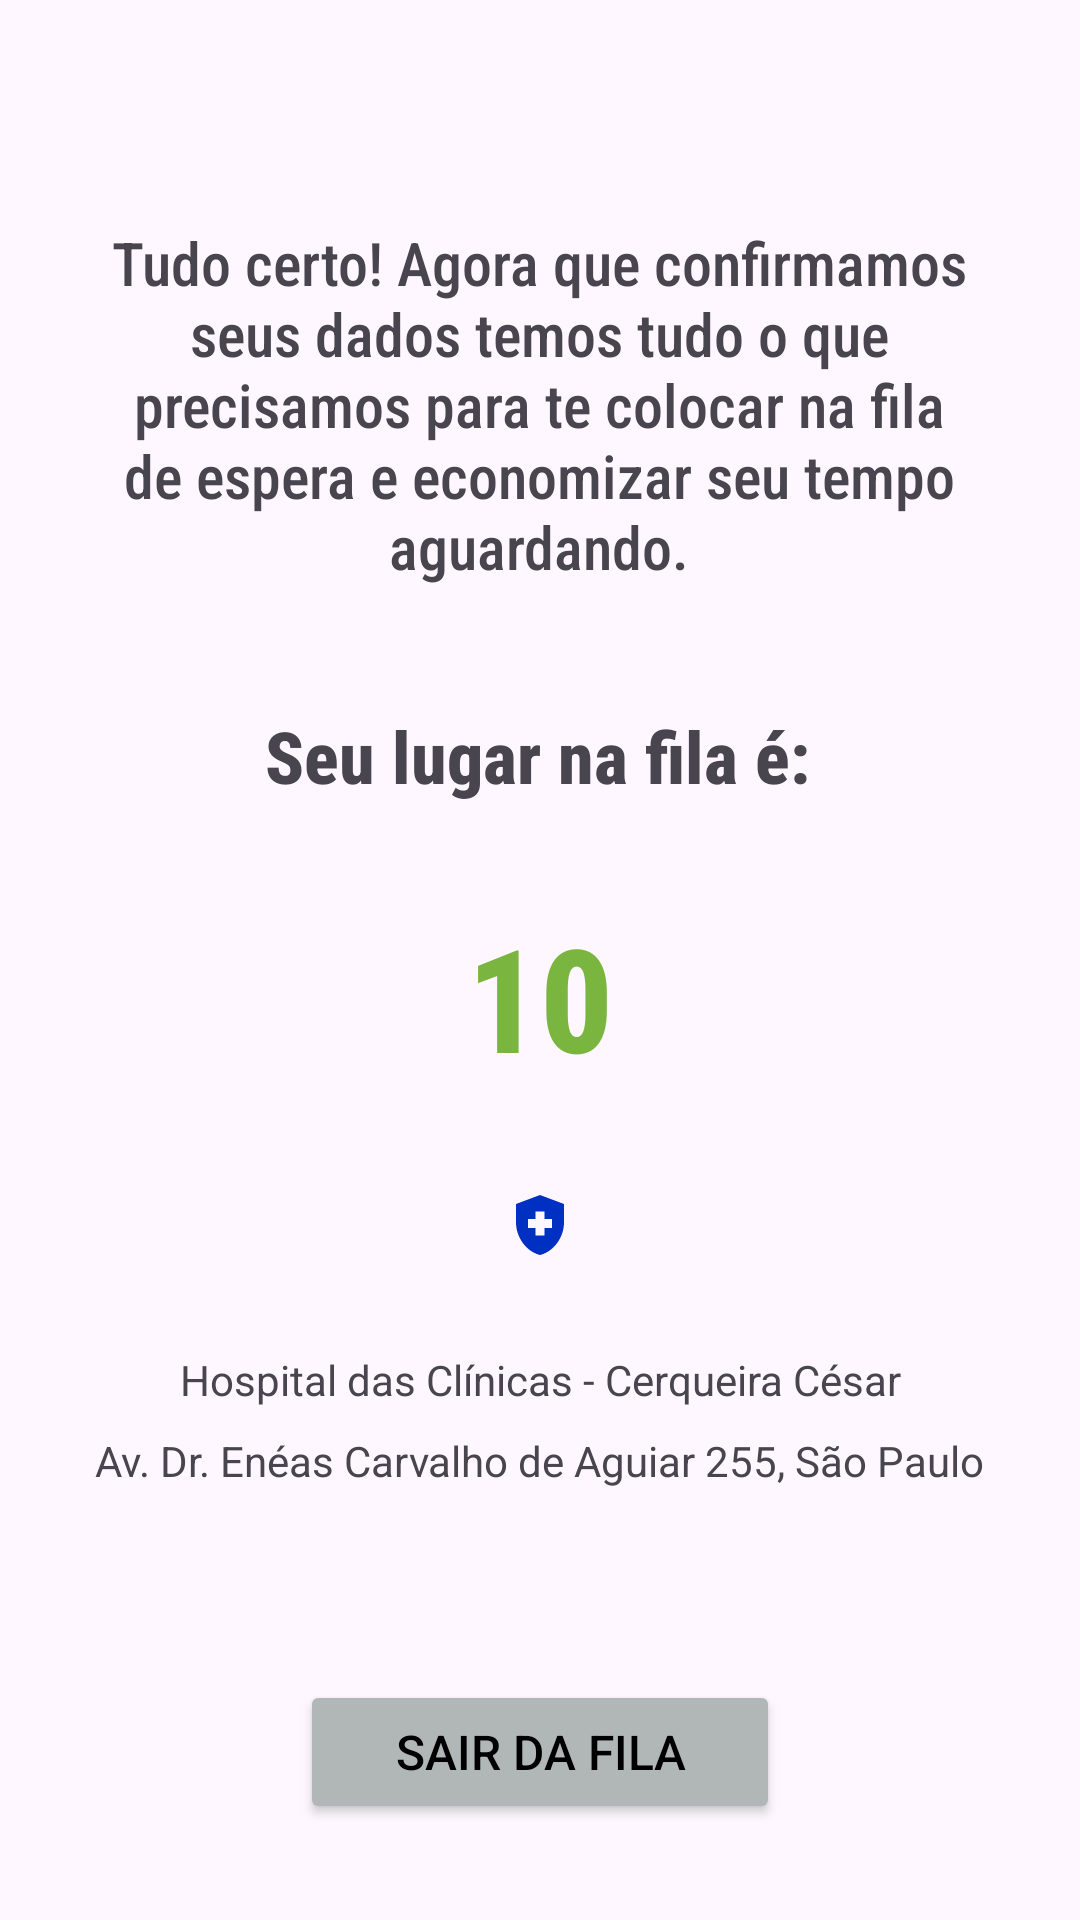

Icon click points for this 1080x1920 phone screenshot, format (x,y):
health and safety: (540,1225)
